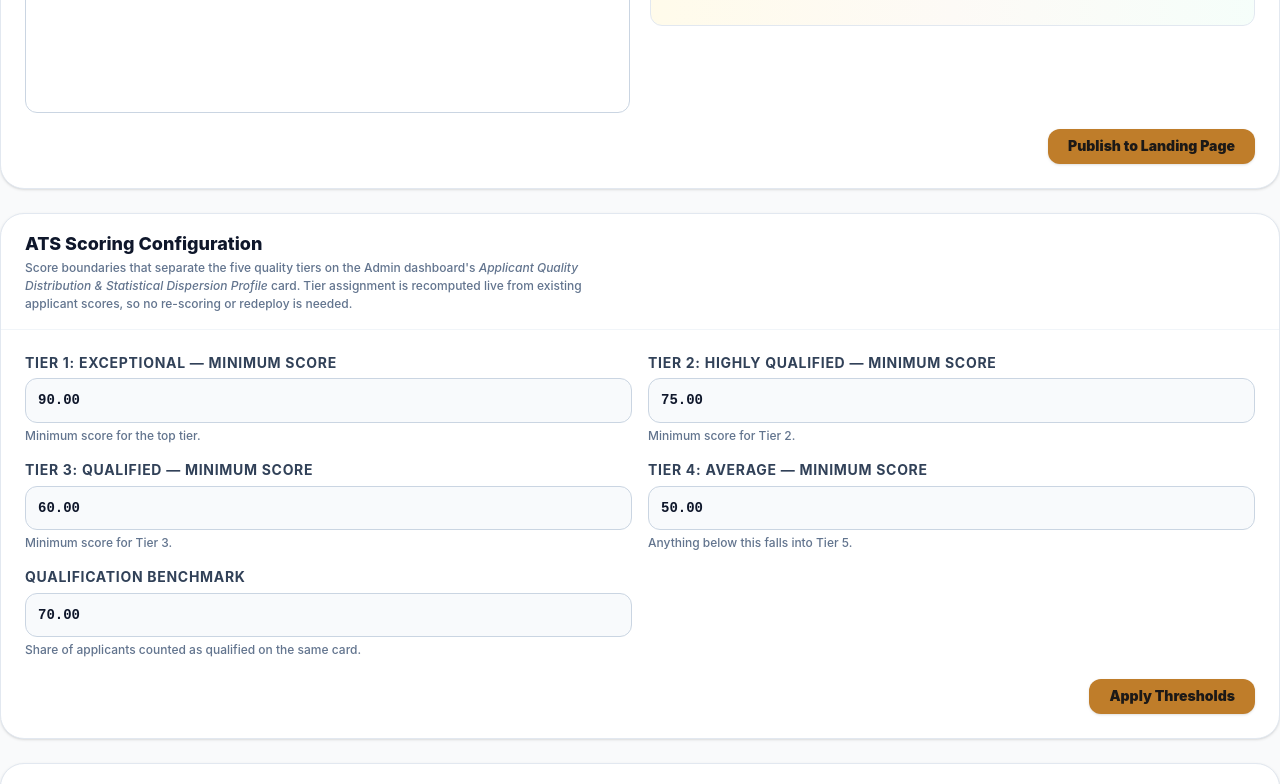
Test: SystemSettings — Eligibility & ATS sections › binds threshold validation errors to the offending field
(page scrolled)
Replace the text in the number field labelled "Tier 2: Highly Qualified — Minimum Score" with "99" at (952, 401), box [648, 378, 1255, 423]
(page scrolled)
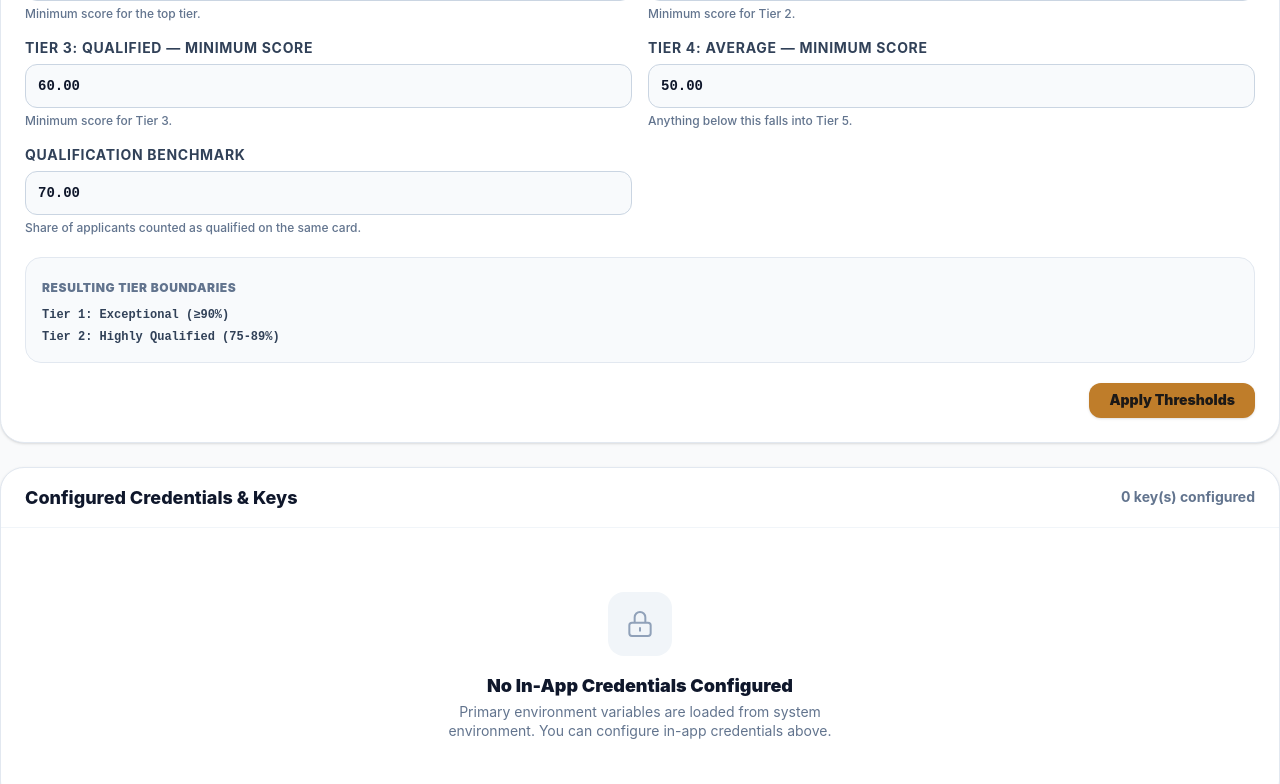
Click the button "Apply Thresholds" at (1172, 401), box [1089, 384, 1255, 418]
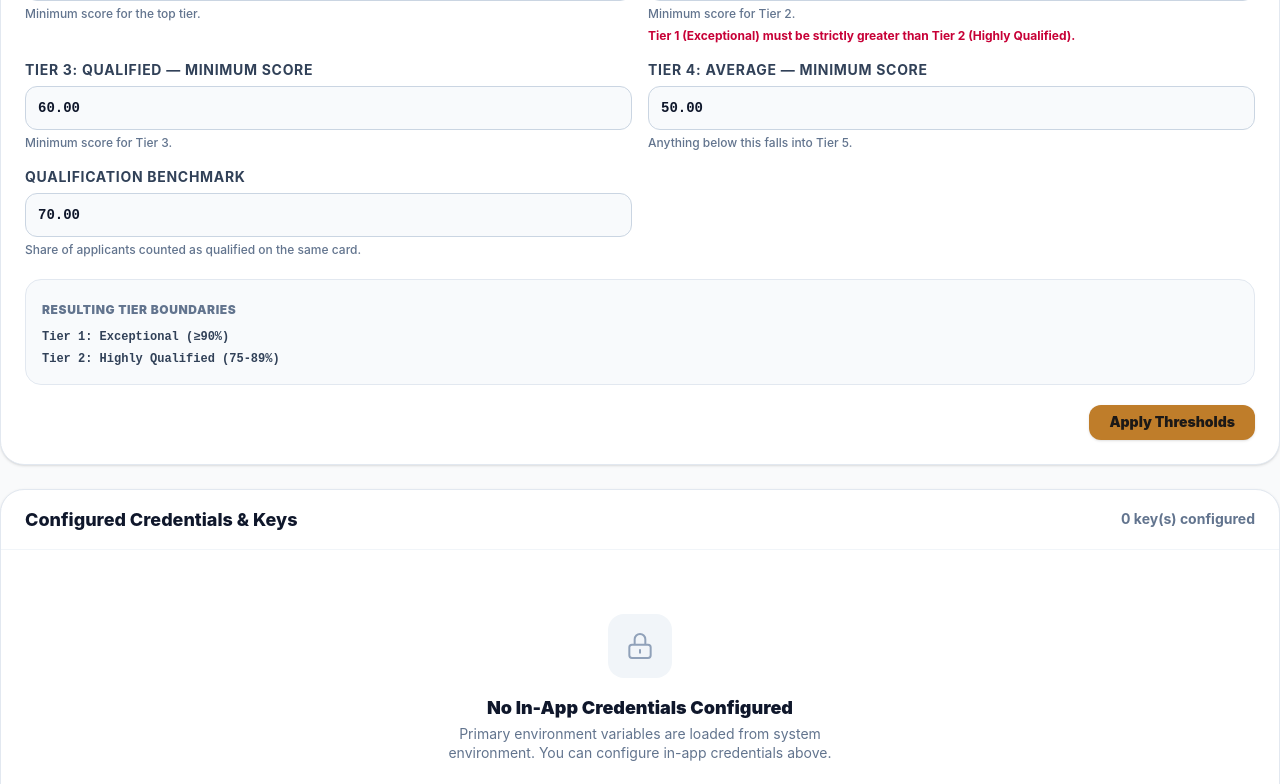
Expected: the text "must be strictly greater than" is shown, [648, 28, 1075, 43]
